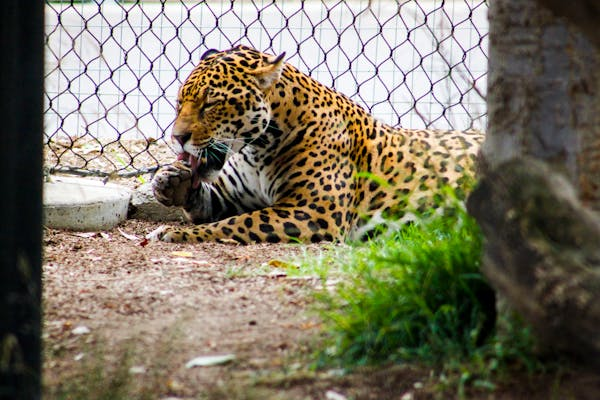Leopard: (153, 44, 483, 244)
